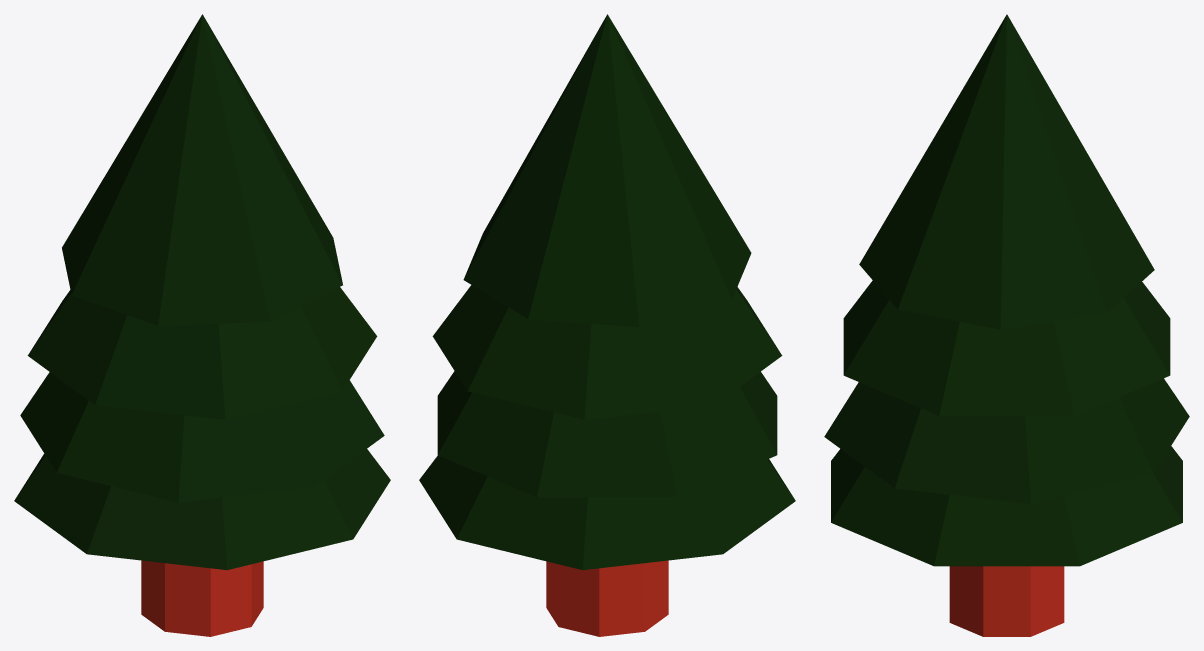
File: BSP_Tree.FBX
3 renders of one model, left to right at view 1: azimuth 30°, elevation 25°; view 2: azimuth 150°, elevation 25°; view 3: azimuth 270°, elevation 25°, orthographic.
Parts seen in each view (by area): view 1: BSP_Tree; view 2: BSP_Tree; view 3: BSP_Tree.
Boxes of the visible parts, x1,y1,x2,y2 form: BSP_Tree: (14,14,390,636); BSP_Tree: (419,14,795,636); BSP_Tree: (824,14,1189,636).
Size of what is drawn, in the model's own units: 457 by 457 by 826.
